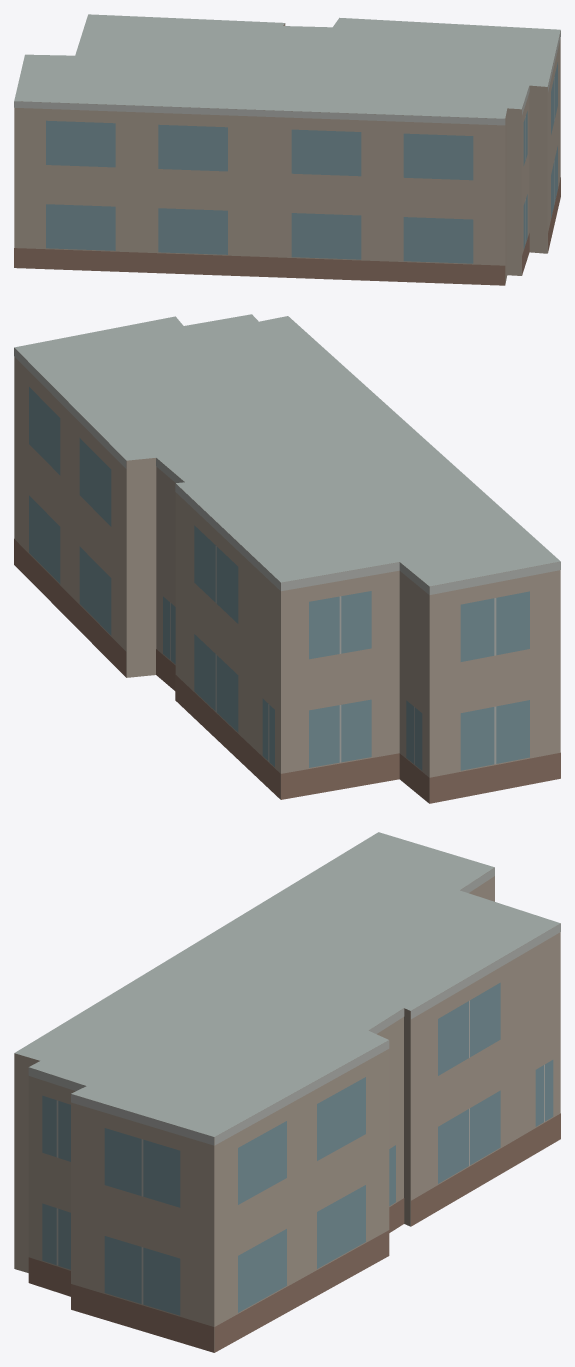
Rendered from survey-upis-33013897.glb.
The picture shows the model from 3 angles, top to bottom: view 1: azimuth 30°, elevation 25°; view 2: azimuth 150°, elevation 25°; view 3: azimuth 270°, elevation 25°; orthographic projection. The views are drawn at different scales.
Visible parts, largest first — view 1: survey-upis-33013897.tmp; view 2: survey-upis-33013897.tmp; view 3: survey-upis-33013897.tmp.
Part boxes in pixels (x1=…): survey-upis-33013897.tmp: x1=14, y1=14, x2=560, y2=285; survey-upis-33013897.tmp: x1=14, y1=314, x2=560, y2=803; survey-upis-33013897.tmp: x1=14, y1=832, x2=560, y2=1352.
Bounding box in the file's own units: 18.5 × 6.1 × 14.01.
